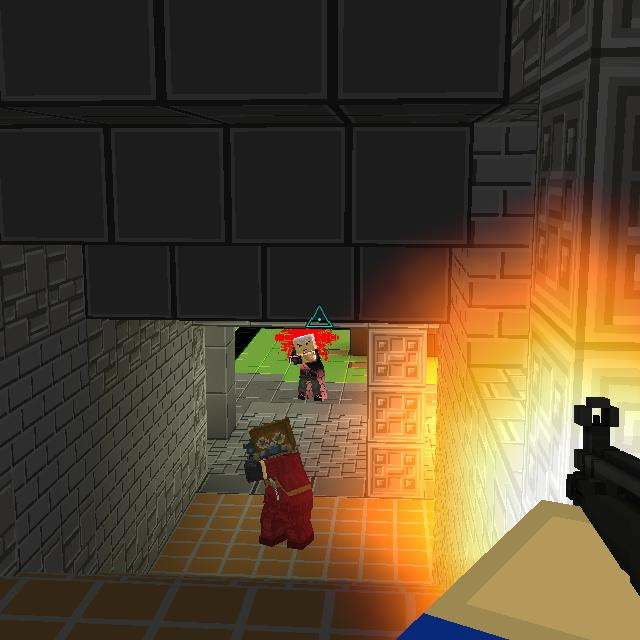enemy: (241, 409, 318, 552), (288, 328, 328, 404)
